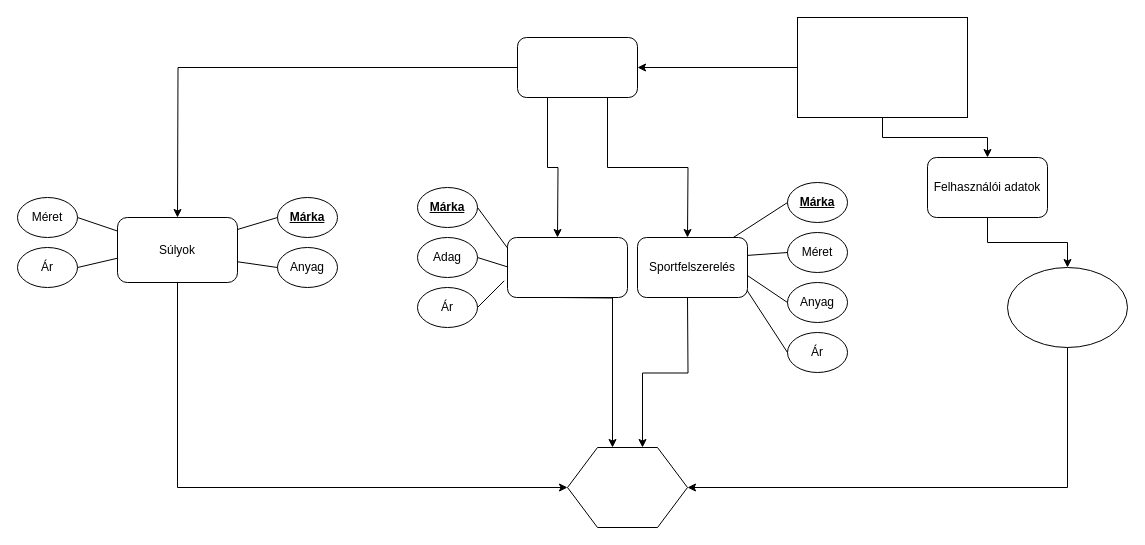
Image size: 1145x545. Some labels were removed from this diagram. Here are the shapes that lost their labels. From the top down, the centre of each, then its label:
[577,67]: Termékek
[882,67]: Webshop
[567,267]: Fogyasztantó termékek
[1067,307]: Név, Email, Jelszó (hash formában), Kosár
[627,487]: Kosár
